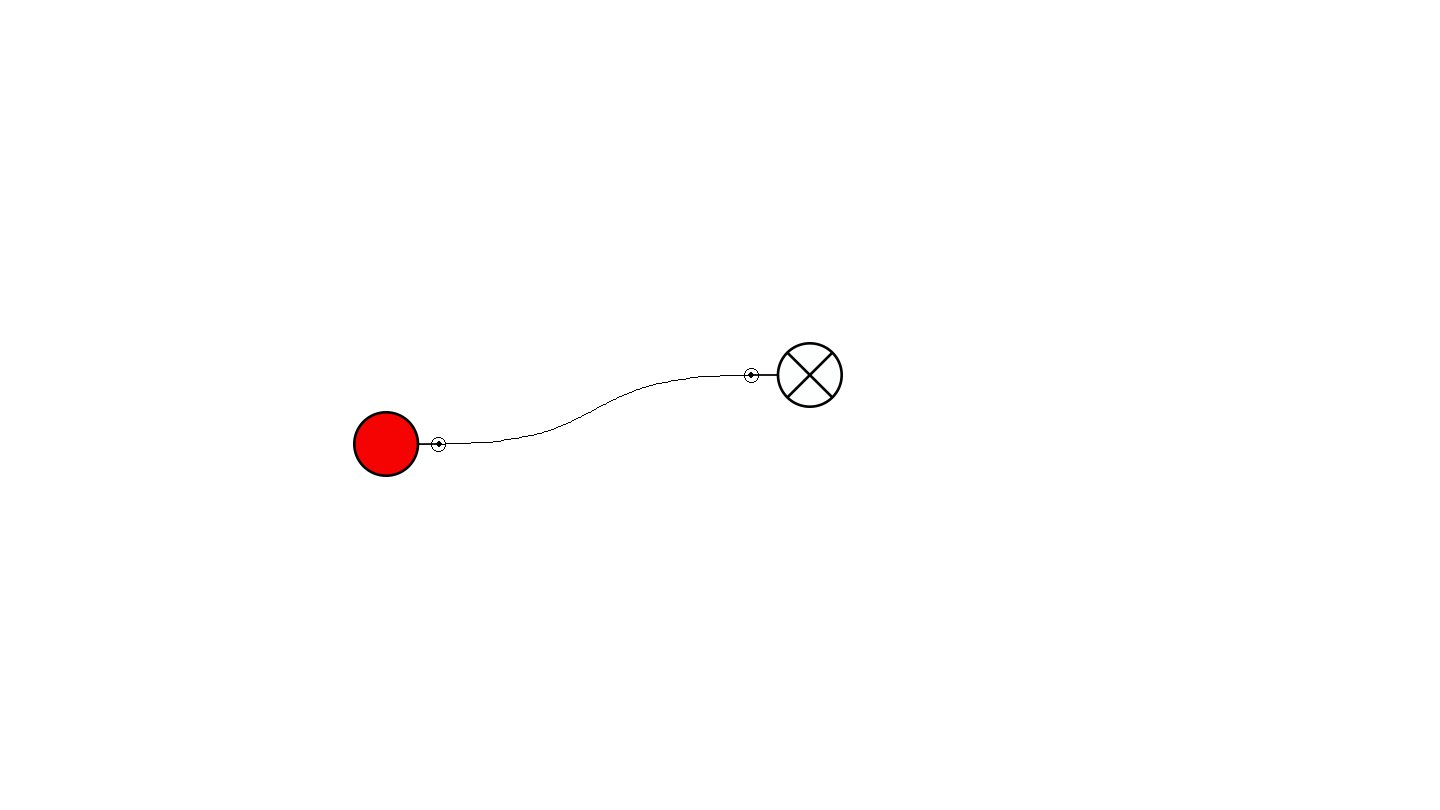bulb: (744, 342, 843, 408)
switch_False: (353, 411, 446, 477)
